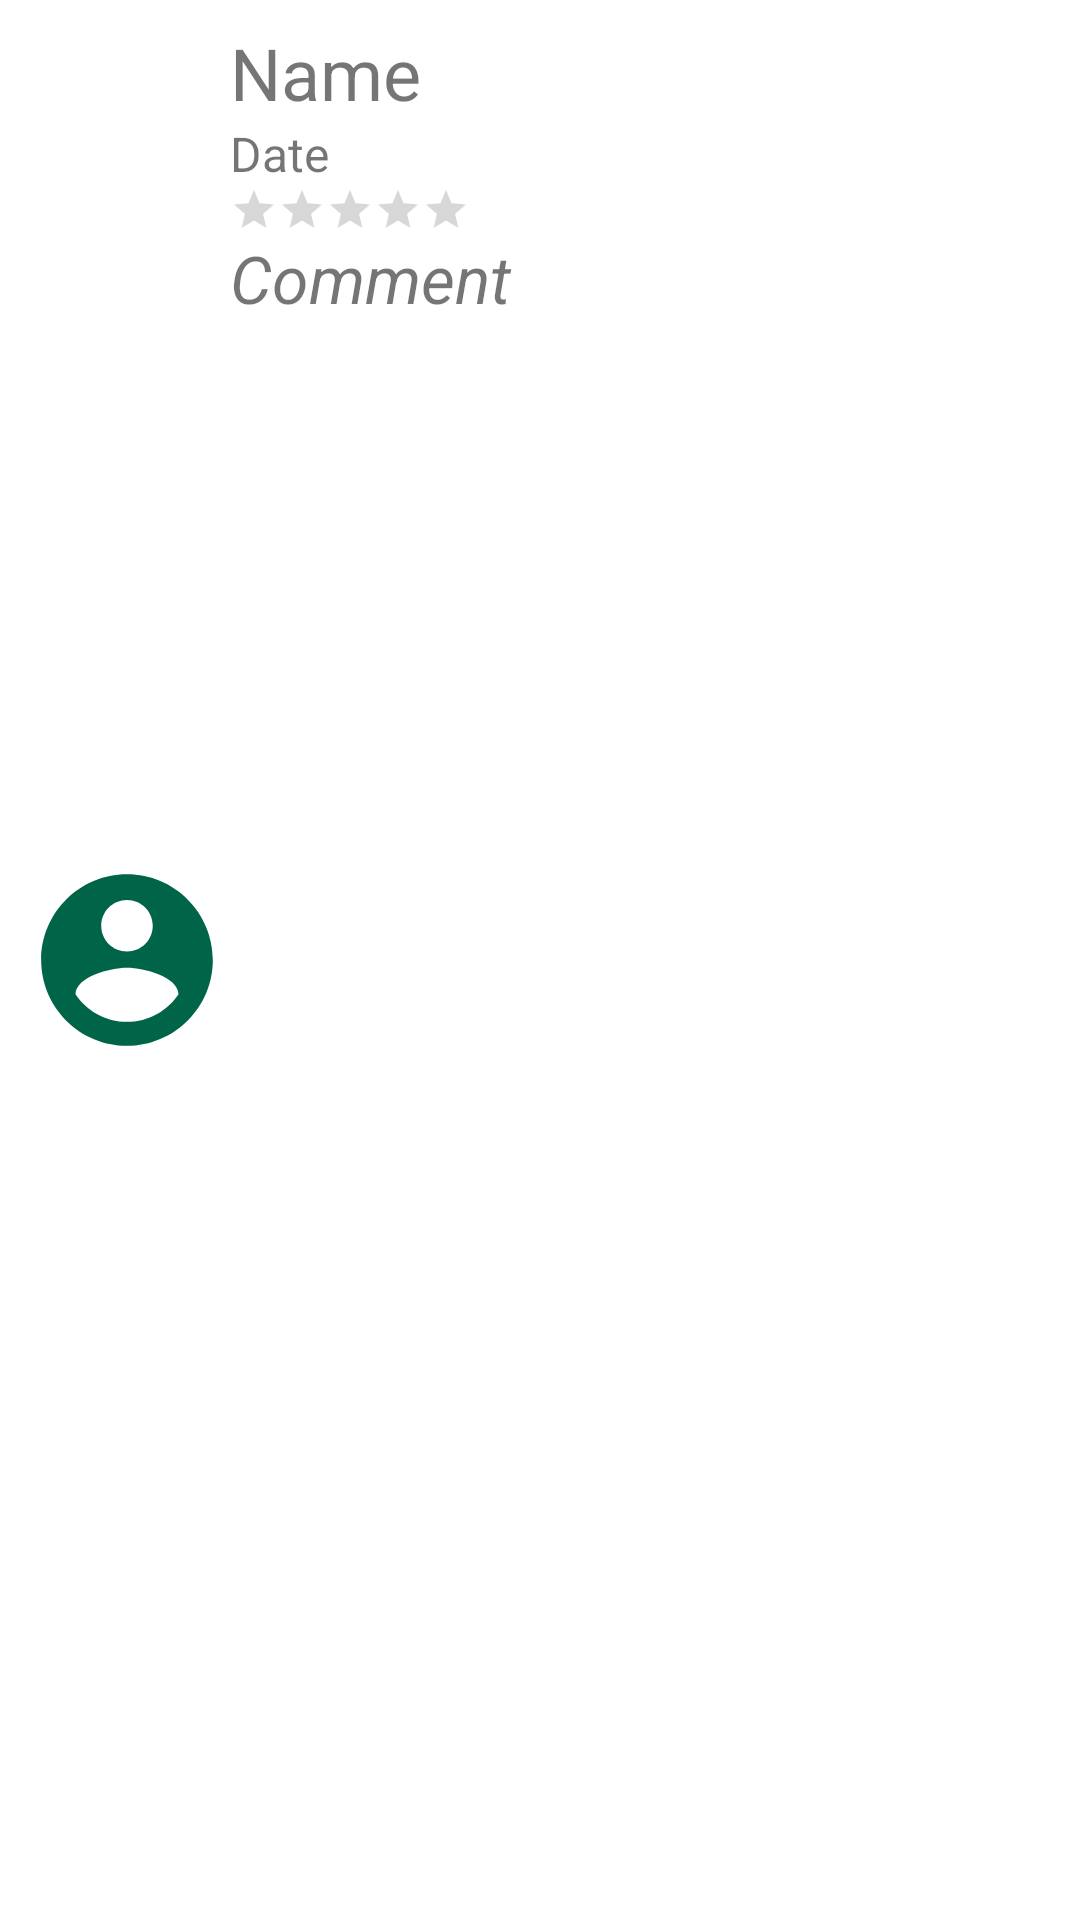

Icons on this 1080 x 1920 Android screen, each with the point to tap as [x,y]:
account circle: [127,960]
